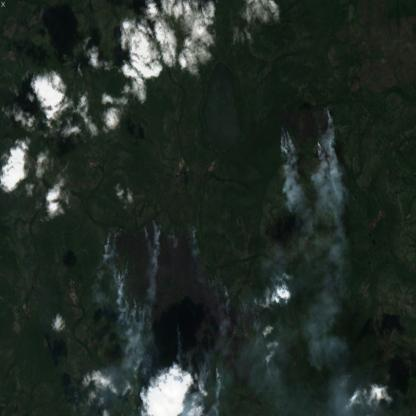fire: (96, 217, 242, 366), (269, 101, 338, 166)
